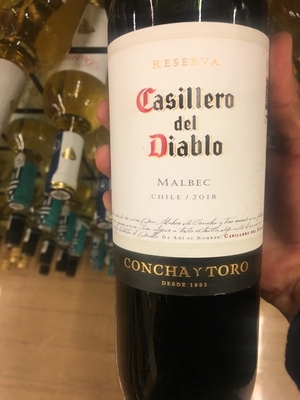casillero del diablo malbec: (96, 6, 286, 382)
